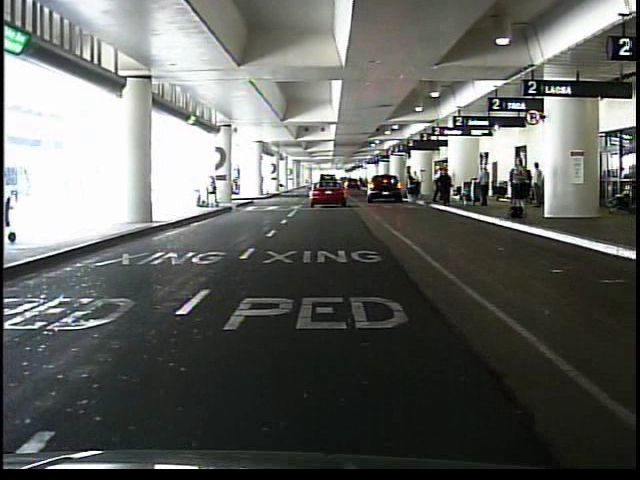person: (510, 157, 531, 210), (530, 161, 544, 210), (440, 170, 455, 208), (479, 166, 492, 208), (206, 173, 221, 209), (405, 168, 418, 203), (434, 167, 446, 204), (410, 169, 420, 197)
